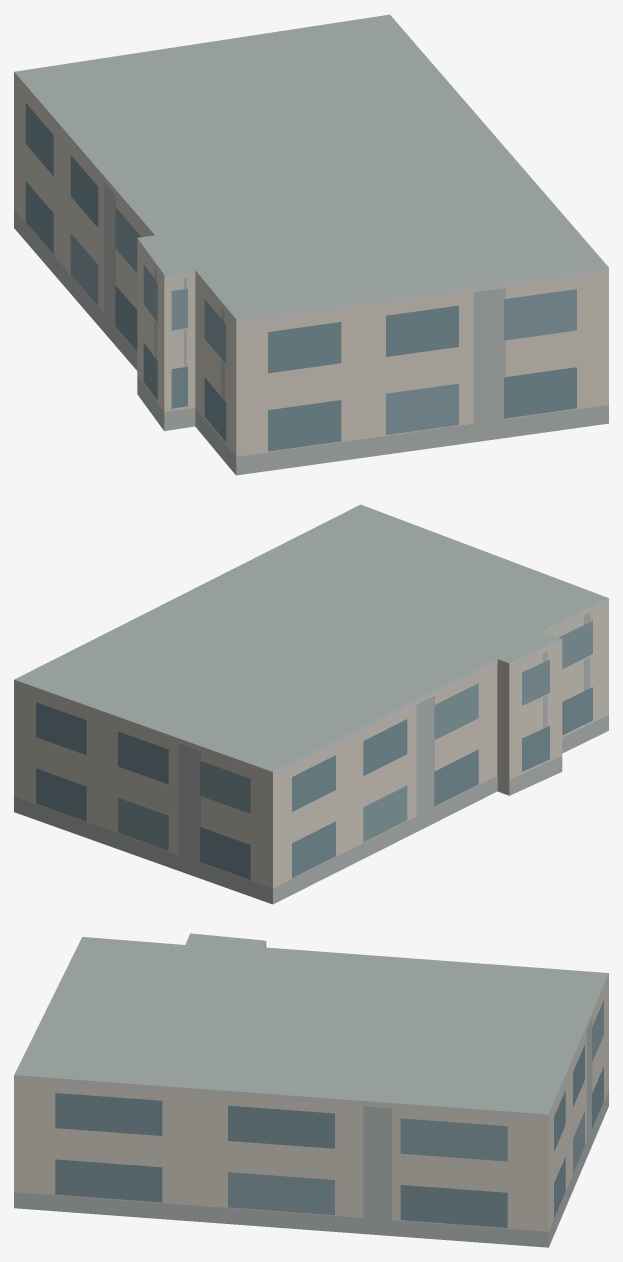
Rendered from survey-upis-32779050.glb.
The picture shows the model from 3 angles, top to bottom: view 1: azimuth 30°, elevation 25°; view 2: azimuth 150°, elevation 25°; view 3: azimuth 270°, elevation 25°; orthographic projection. The views are drawn at different scales.
Parts seen in each view (by area): view 1: survey-upis-32779050.tmp; view 2: survey-upis-32779050.tmp; view 3: survey-upis-32779050.tmp.
Boxes of the visible parts, x1,y1,x2,y2 form: survey-upis-32779050.tmp: [14, 14, 608, 475]; survey-upis-32779050.tmp: [14, 504, 608, 904]; survey-upis-32779050.tmp: [14, 933, 608, 1247].
Size of the model in its own units: 17.83 by 6.1 by 24.72.
